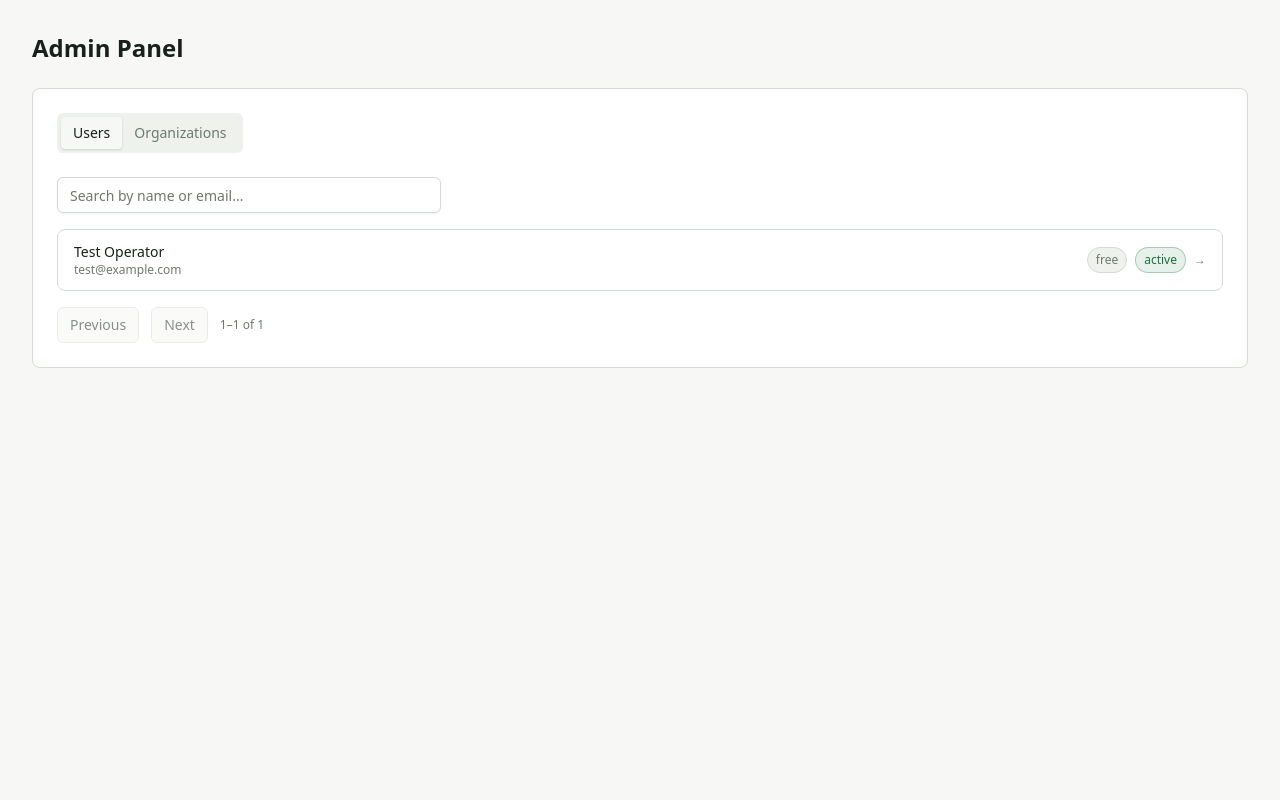
Test: Admin list pagination › pages the orgs list and reports the range
Click the tab "Organizations".
click(180, 133)  # box [122, 117, 238, 149]
(page scrolled)
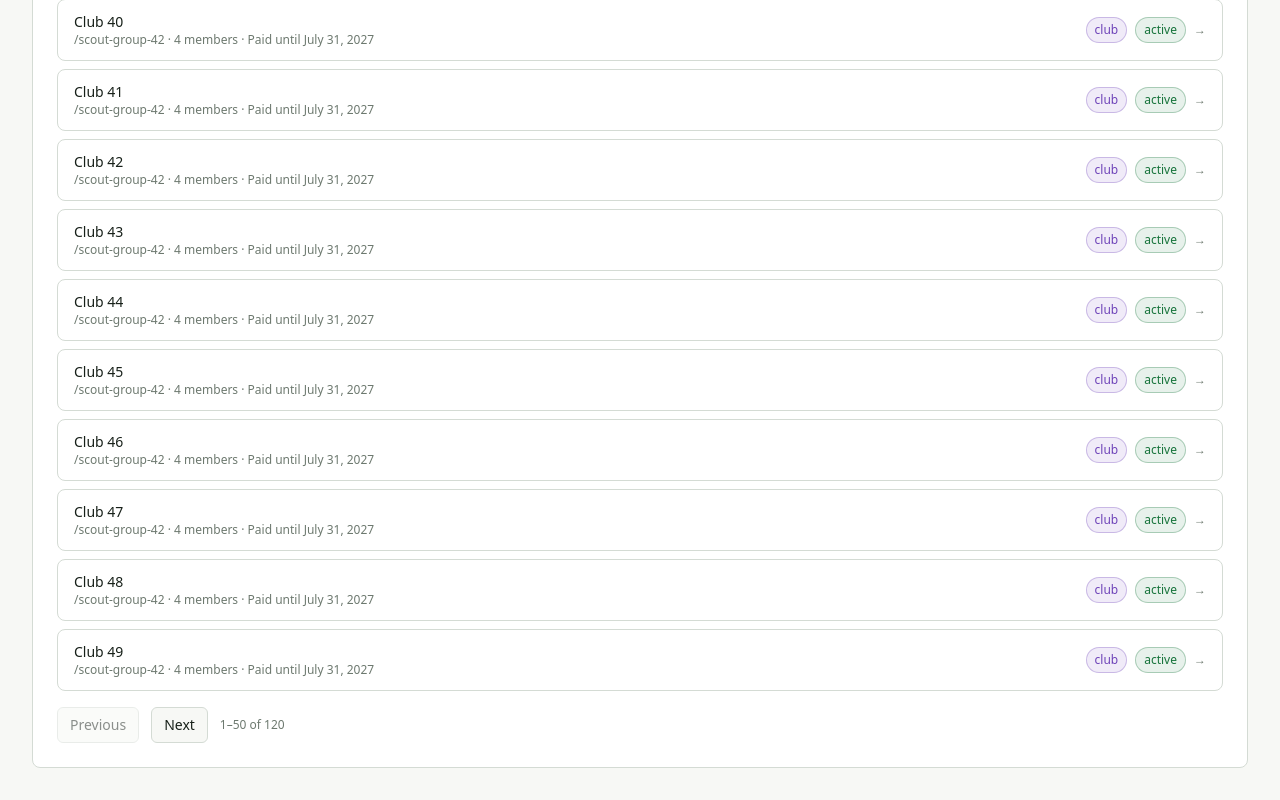
Check: the button with test id "admin-orgs-pagination-prev" is disabled, box [57, 707, 139, 743]
Check: the text with test id "admin-orgs-pagination-range" reads "1–50 of 120", box [220, 716, 285, 733]
Click the button with test id "admin-orgs-pagination-next".
click(179, 725)  # box [151, 707, 208, 743]
(page scrolled)
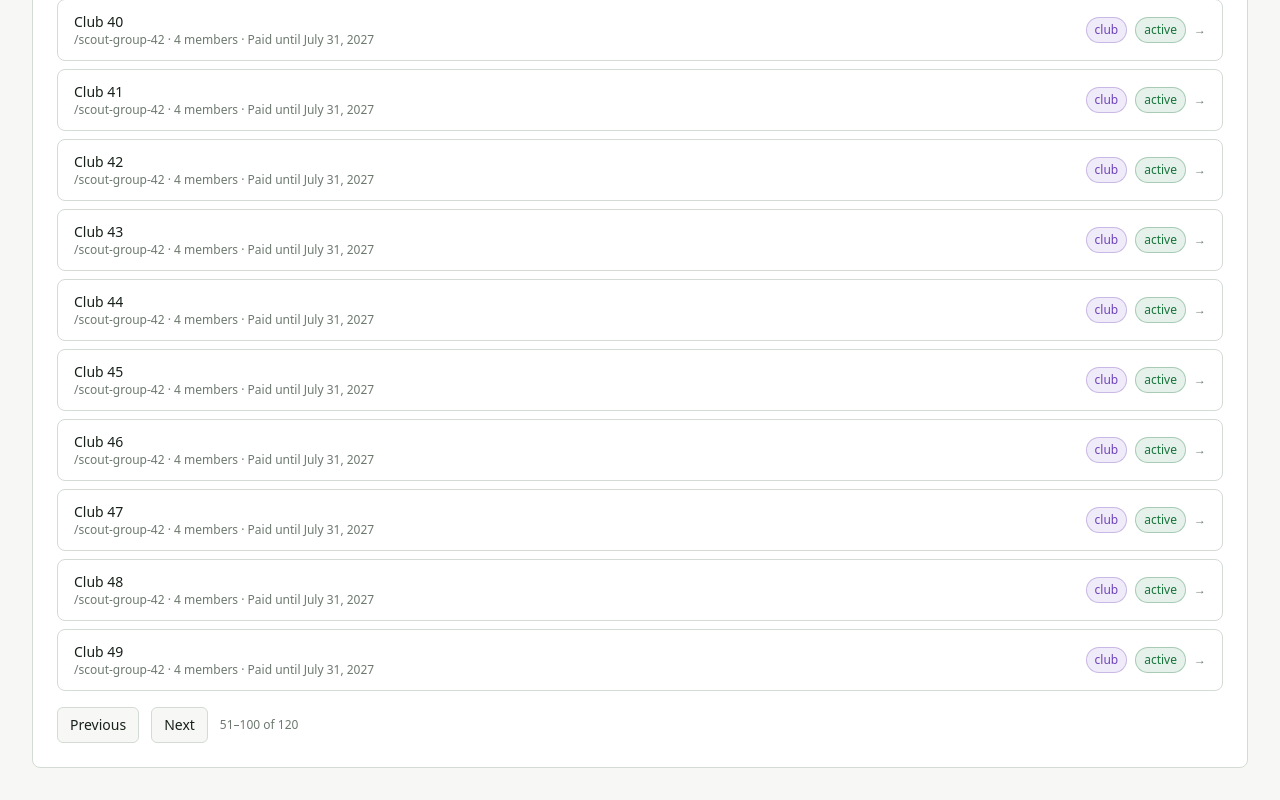
Check: the text with test id "admin-orgs-pagination-range" reads "51–100 of 120", box [220, 716, 298, 733]
Check: the button with test id "admin-orgs-pagination-prev" is enabled, box [57, 707, 139, 743]
